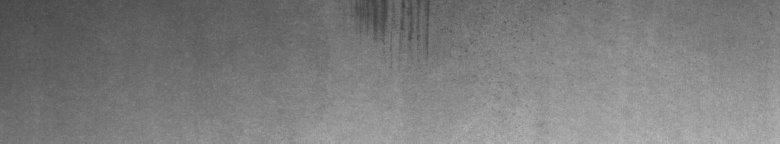ka: (364, 4, 438, 54)
